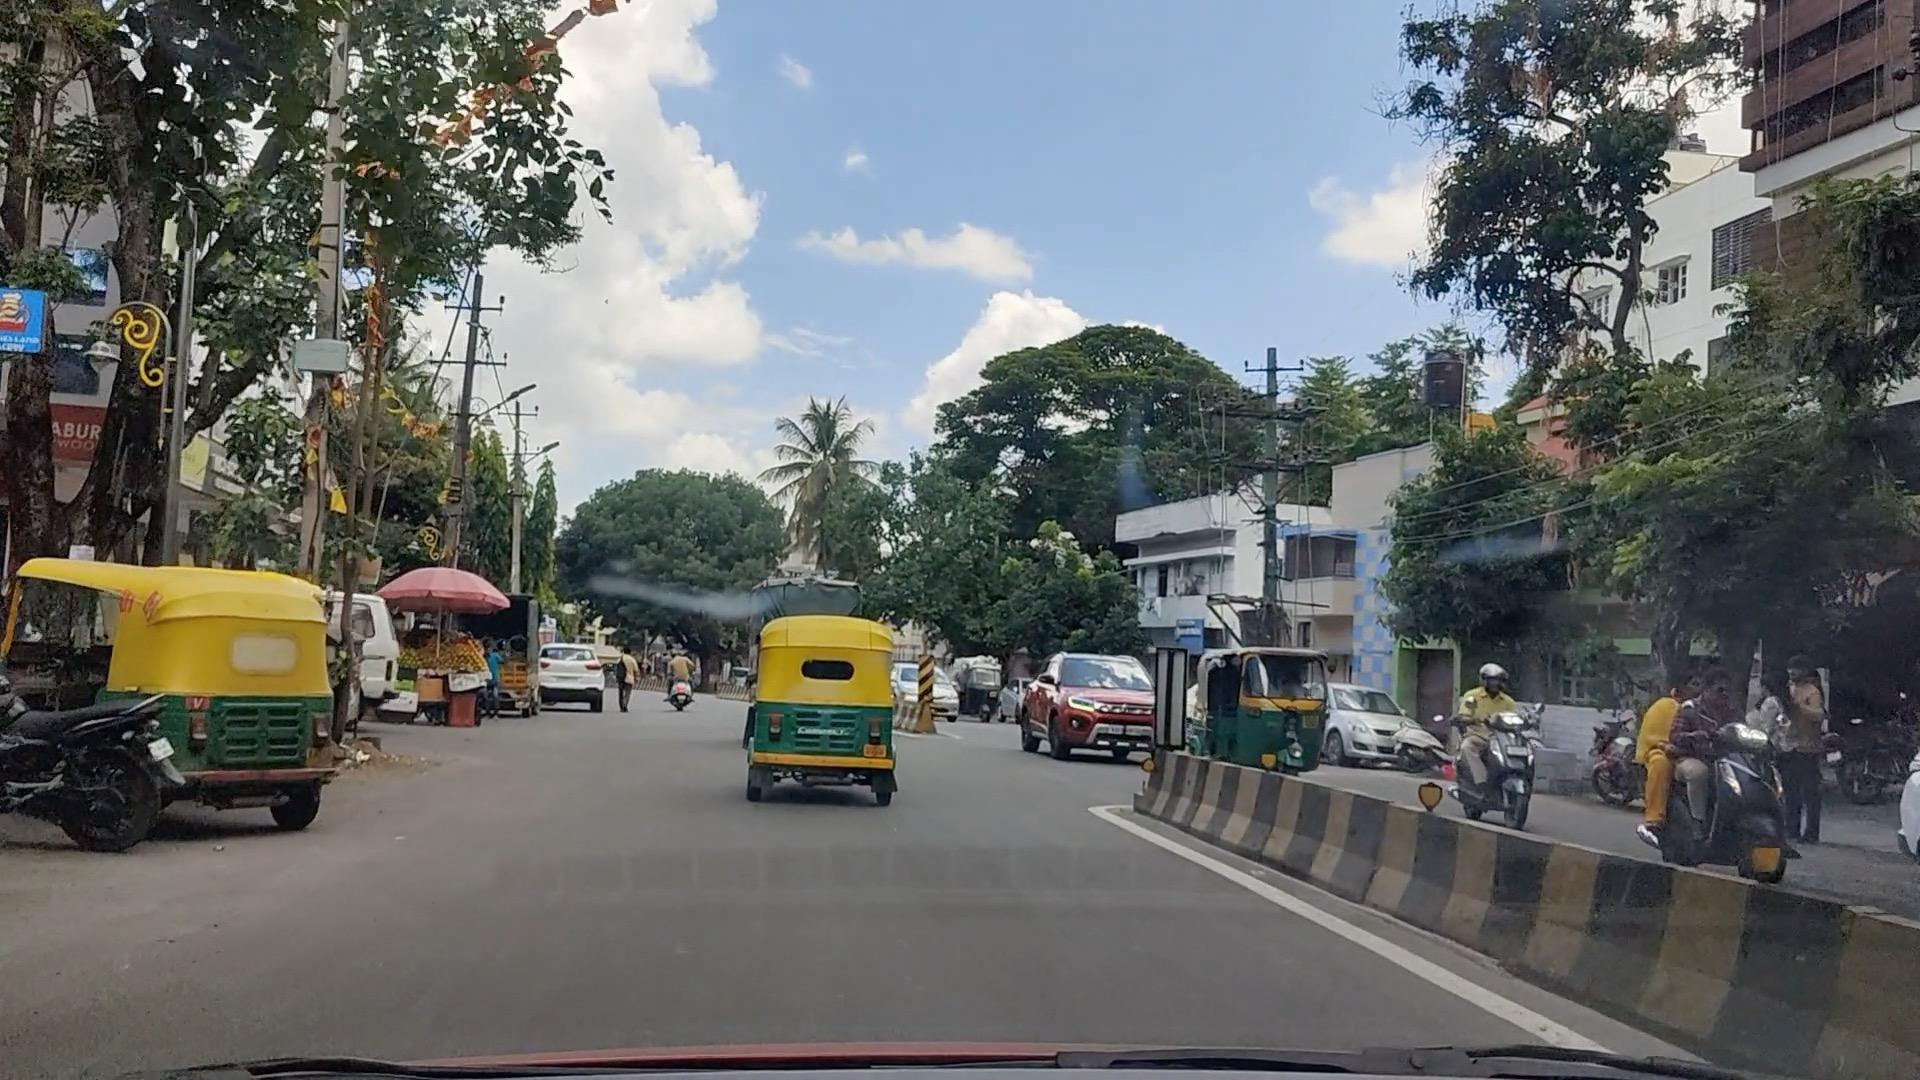LMV: (731, 620, 903, 799)
